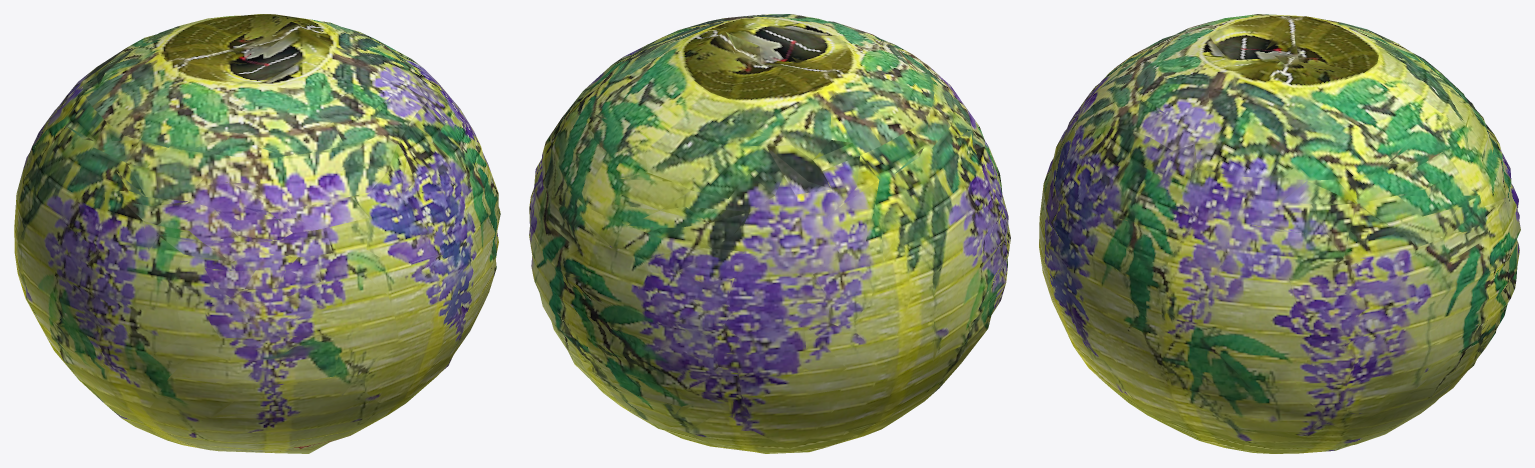
The model's file is AT3 Kyra Lim Flowers.glb.
3 renders of one model, left to right at view 1: azimuth 30°, elevation 25°; view 2: azimuth 150°, elevation 25°; view 3: azimuth 270°, elevation 25°, orthographic.
Size of the model in its own units: 994 by 879 by 1000.
1 material, 1 textured.
